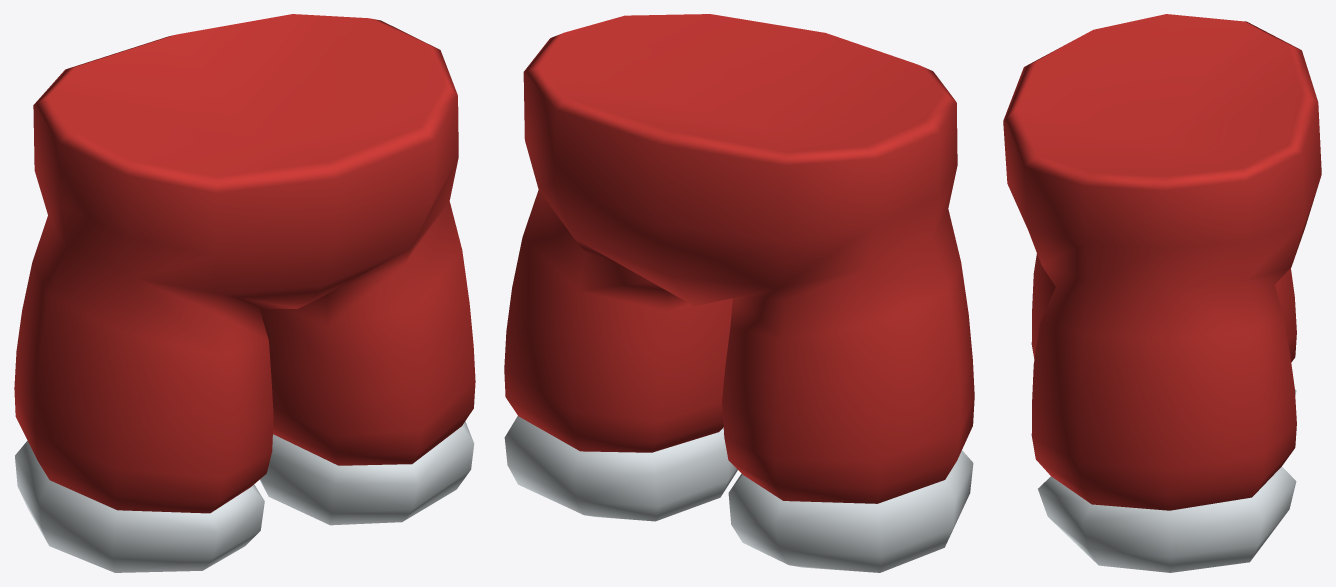
The model's file is Bottom_52.fbx.
The picture shows the model from 3 angles, left to right: view 1: azimuth 30°, elevation 25°; view 2: azimuth 150°, elevation 25°; view 3: azimuth 270°, elevation 25°; orthographic projection. The views are drawn at different scales.
Visible parts, largest first — view 1: Bottom_52; view 2: Bottom_52; view 3: Bottom_52.
Part boxes in pixels (box(x1,y1,x2,y2)): Bottom_52: box(14, 14, 475, 572); Bottom_52: box(504, 14, 974, 572); Bottom_52: box(1003, 14, 1321, 572).
Size of the model in its own units: 43.05 by 41.52 by 29.68.
